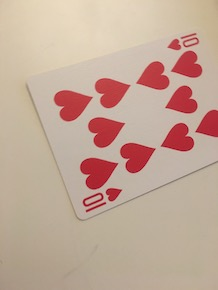TenOfHearts: (20, 26, 218, 222)
